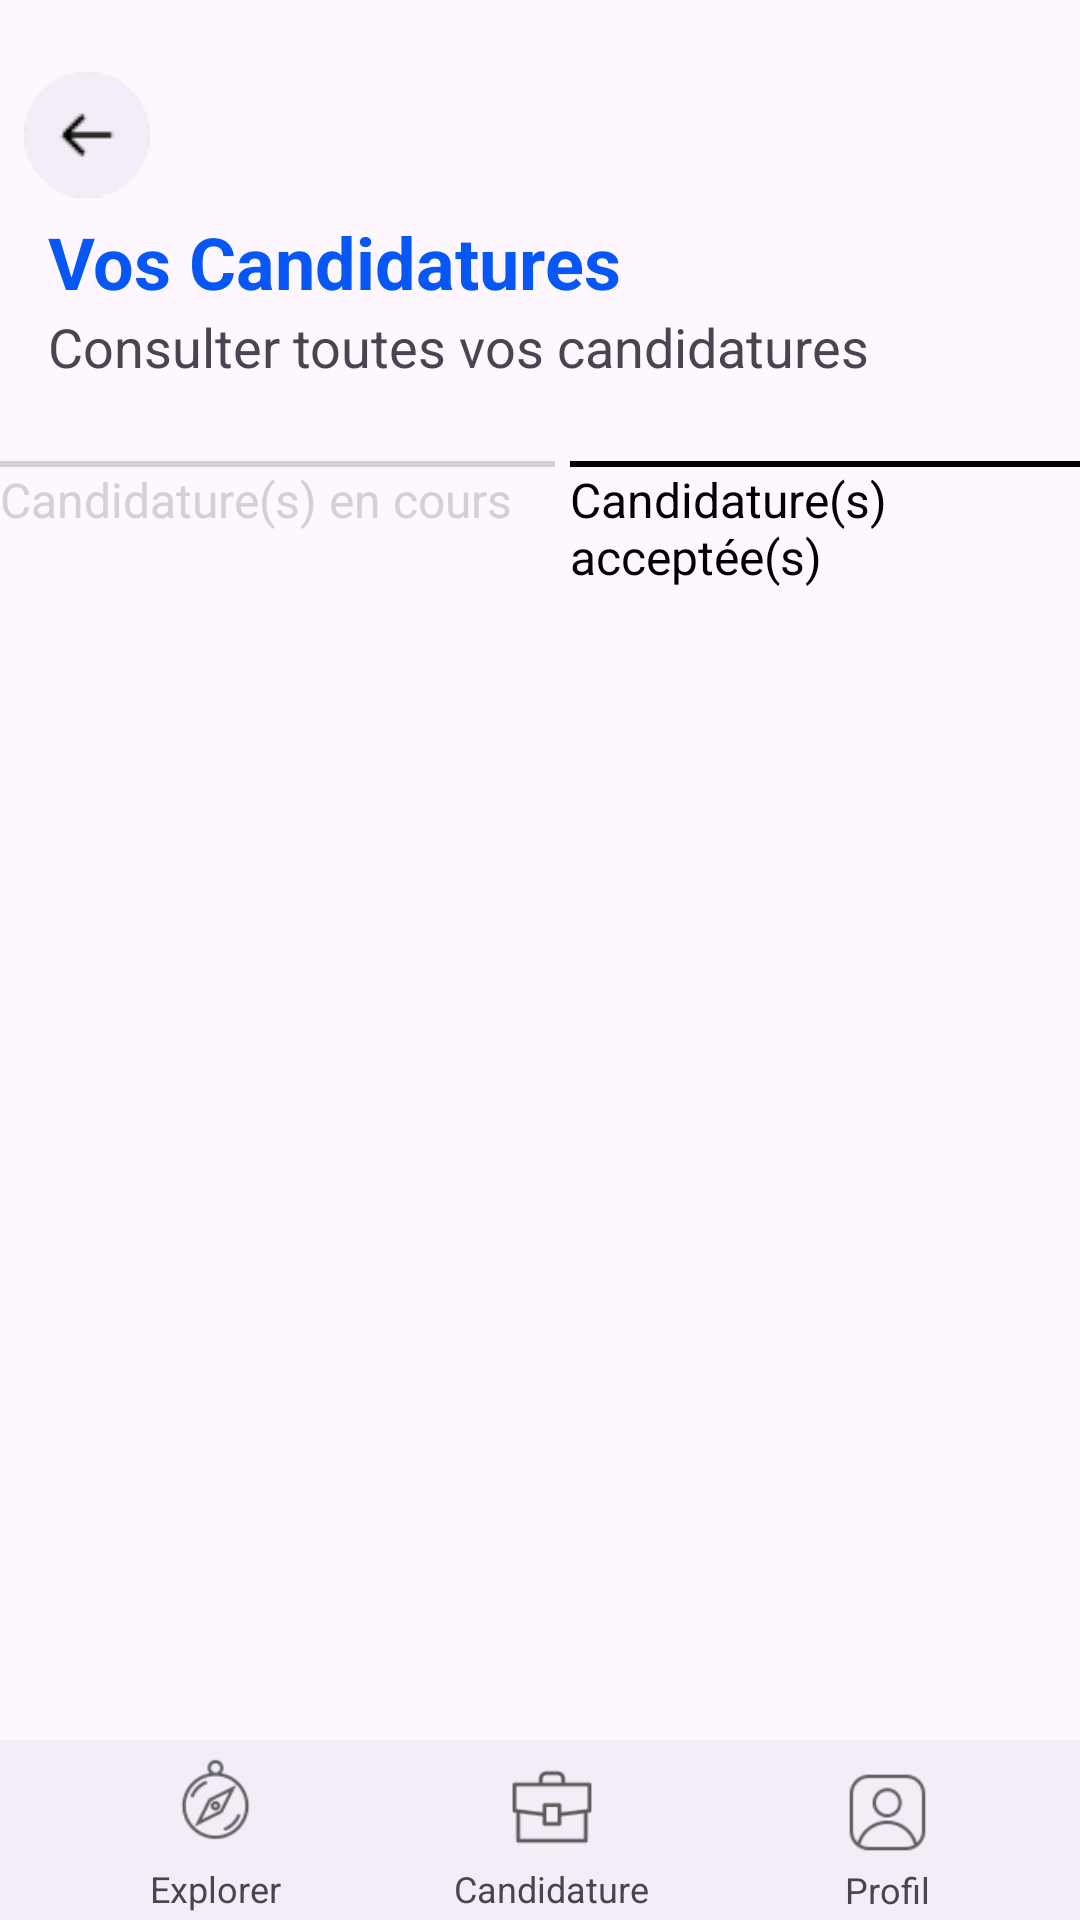

Screen size 1080x1920. Icon name, then its center in pixels as [x,y]:
back: [87,135]
compass: [215,1799]
user: [887,1812]
